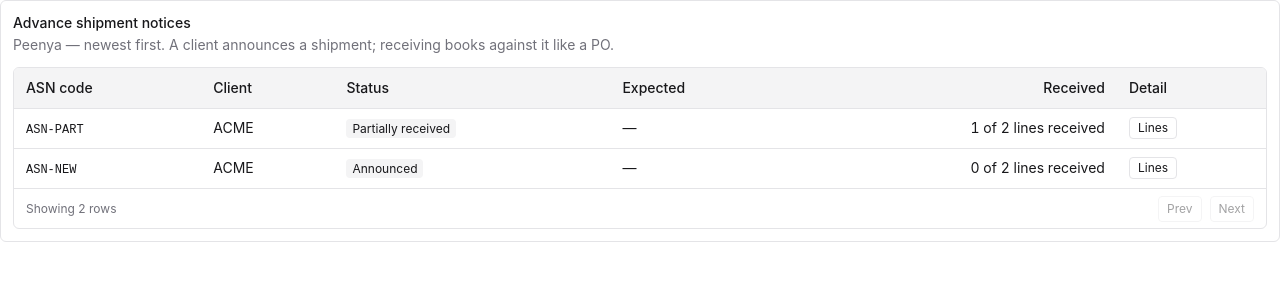
AsnsCard › an operator reads the list, the client column and a row’s lines — and is offered no mutation at all
This screenshot has width=1280, height=300.
What coordinates should you click on to do the following:
click the button "Lines" in the row of "ASN-PART"
I would click on:
 (1153, 128)
Its box is [1129,117,1177,139].
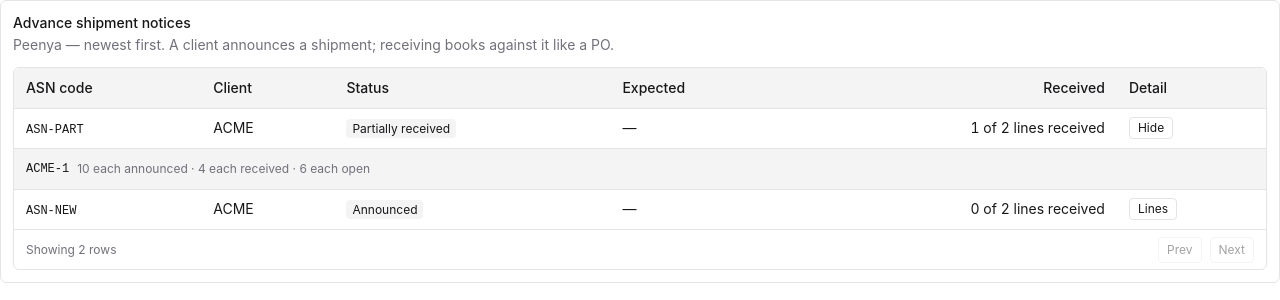
Expected: the text "announced" is shown, [121,160,198,176]
Result: the text "ACME-1" is shown at [26,160,69,176]
